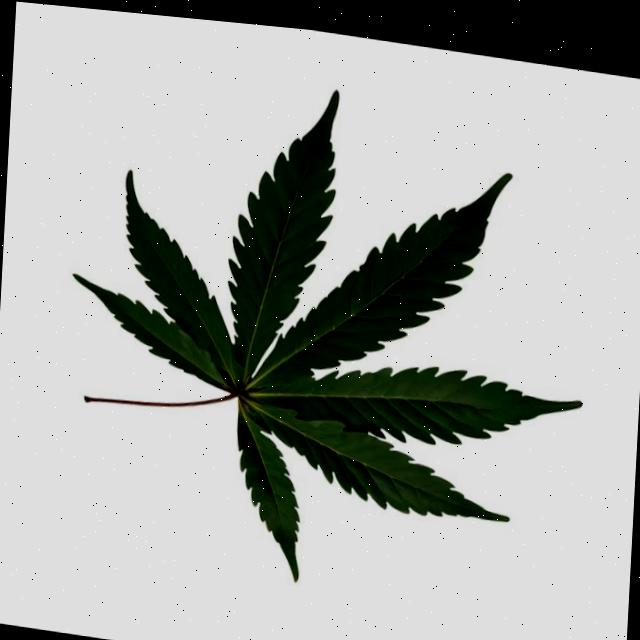cannabis: (74, 89, 584, 581)
